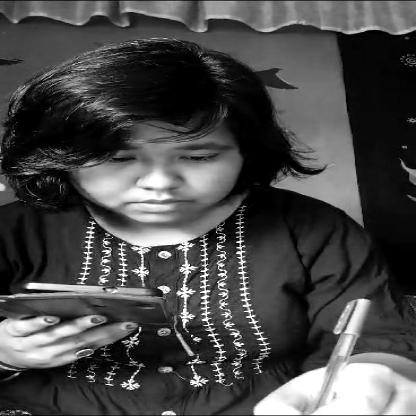Normal: (45, 105, 279, 231)
